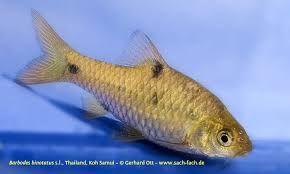Black Spotted Barb: (14, 6, 254, 165)
